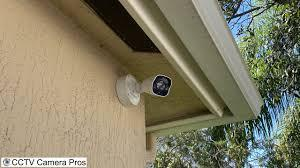Security camera: (114, 72, 172, 107), (141, 73, 172, 97)
